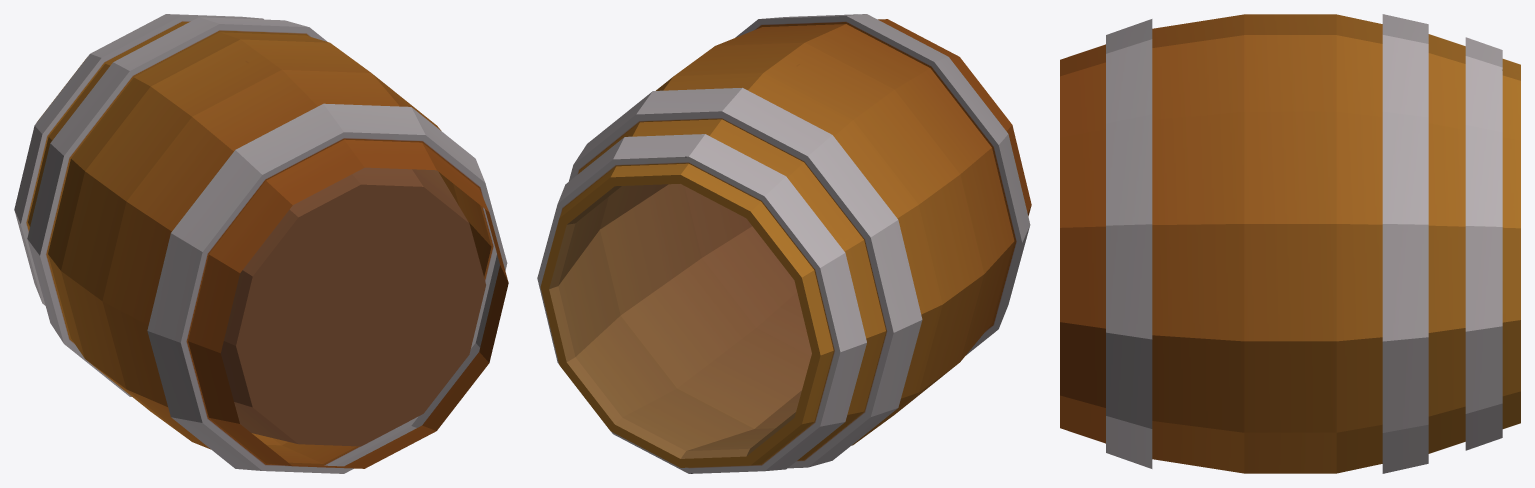
Rendered from openBarrel.dae.
3 views of the same model, side by side, from view 1: azimuth 30°, elevation 25°; view 2: azimuth 150°, elevation 25°; view 3: azimuth 270°, elevation 25° (orthographic). The views are drawn at different scales.
Parts seen in each view (by area): view 1: Cylinder_005, Cylinder_004; view 2: Cylinder_005, Cylinder_004; view 3: Cylinder_005, Cylinder_004.
Part boxes in pixels (box(x1,y1,x2,y2)): Cylinder_005: box(28, 23, 508, 468); Cylinder_004: box(14, 14, 507, 473); Cylinder_005: box(540, 19, 1031, 467); Cylinder_004: box(537, 14, 1030, 473); Cylinder_005: box(1060, 14, 1520, 473); Cylinder_004: box(1106, 14, 1502, 473).
Bounding box in the file's own units: 2 × 2 × 2.
1 material, 1 textured.
